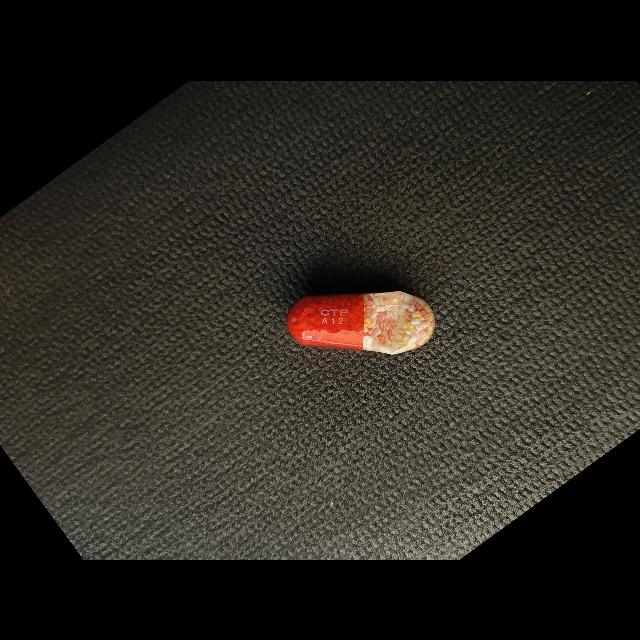Defective Capsule: (287, 290, 435, 354)
